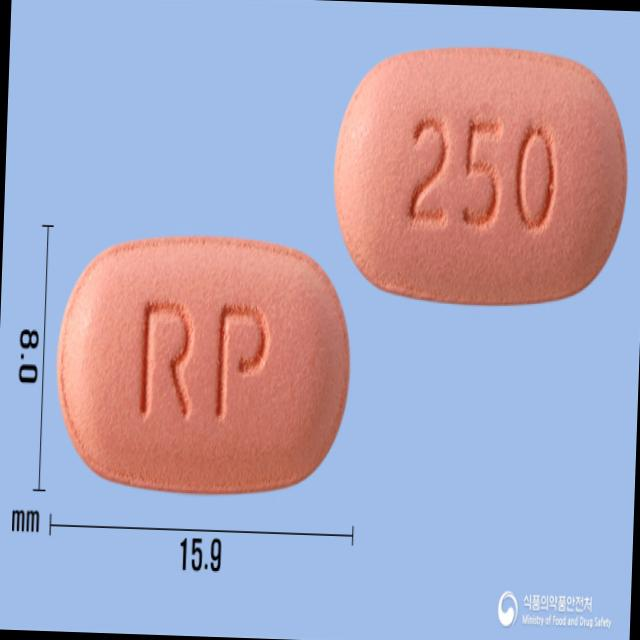Rp Levofloxacin Tab: (51, 230, 354, 501), (328, 44, 632, 309)
